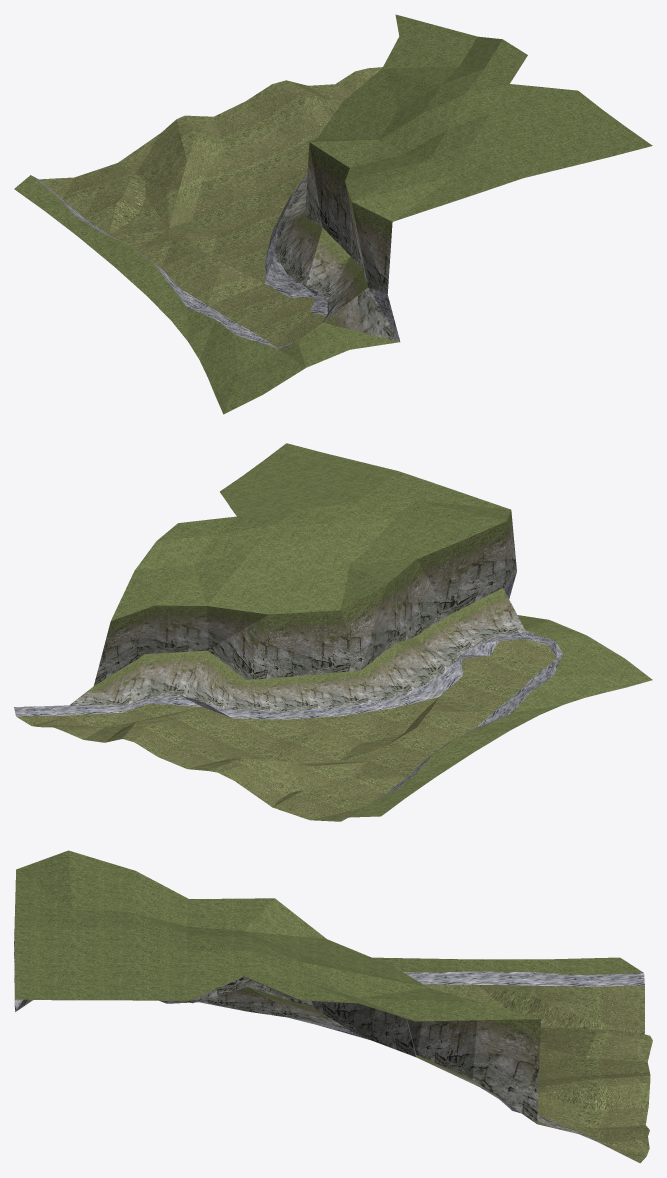
Rendered from radar_bit_02.obj.
3 views of the same model, one above another, from view 1: azimuth 30°, elevation 25°; view 2: azimuth 150°, elevation 25°; view 3: azimuth 270°, elevation 25° (orthographic). The views are drawn at different scales.
Visible parts, largest first — view 1: radar_bit_02; view 2: radar_bit_02; view 3: radar_bit_02.
Boxes of the visible parts, <box> form: radar_bit_02: <box>14,14,652,414</box>; radar_bit_02: <box>14,443,652,821</box>; radar_bit_02: <box>14,850,652,1163</box>.
Bounding box in the file's own units: 192 × 65.23 × 197.
Materials: 7 (7 with a texture image).
